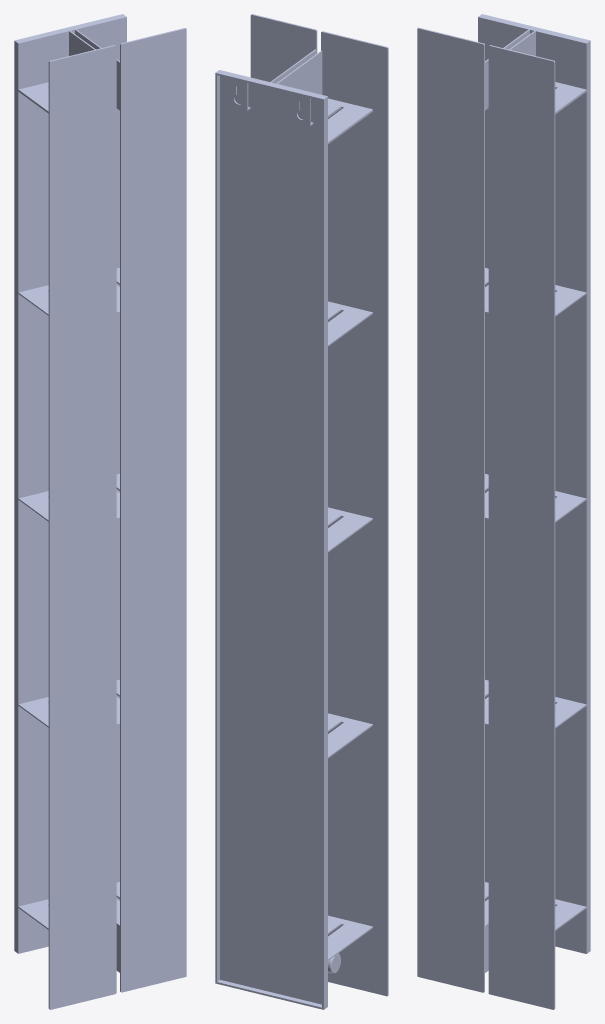
The model's file is skyline-prima.36cc87a142.glb.
3 renders of one model, left to right at view 1: azimuth 30°, elevation 25°; view 2: azimuth 150°, elevation 25°; view 3: azimuth 330°, elevation 25°, orthographic.
Parts seen in each view (by area): view 1: NAUO1; view 2: NAUO1; view 3: NAUO1.
Part boxes in pixels (bbox=[...]): NAUO1: bbox=[14, 14, 186, 1009]; NAUO1: bbox=[215, 14, 388, 1009]; NAUO1: bbox=[417, 14, 590, 1009].
Size of the model in its own units: 0.1511 by 1 by 0.096.
